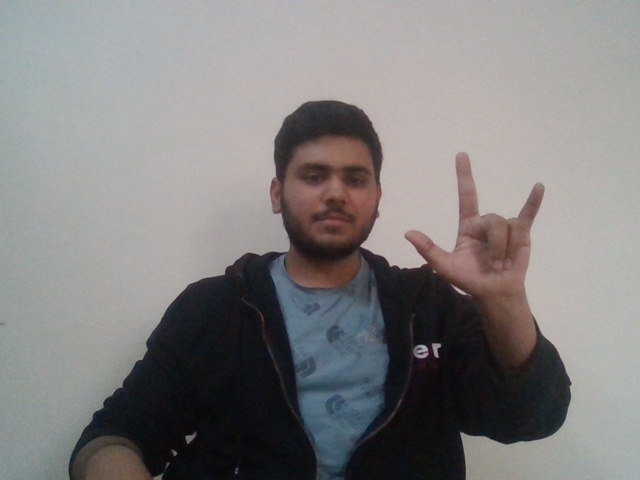IloveYou: (397, 148, 550, 290)
